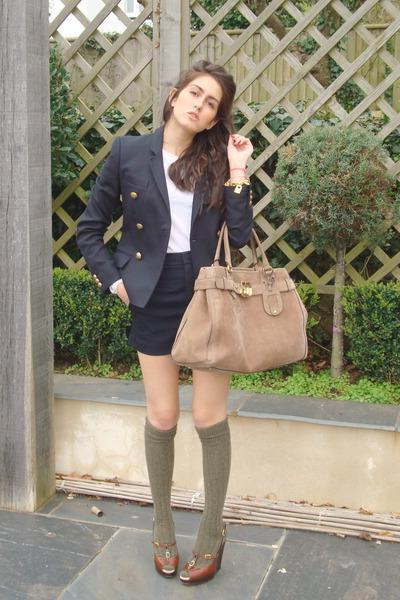Shorts: (122, 246, 237, 360)
jacket: (77, 128, 252, 301)
vest: (149, 150, 215, 258)
